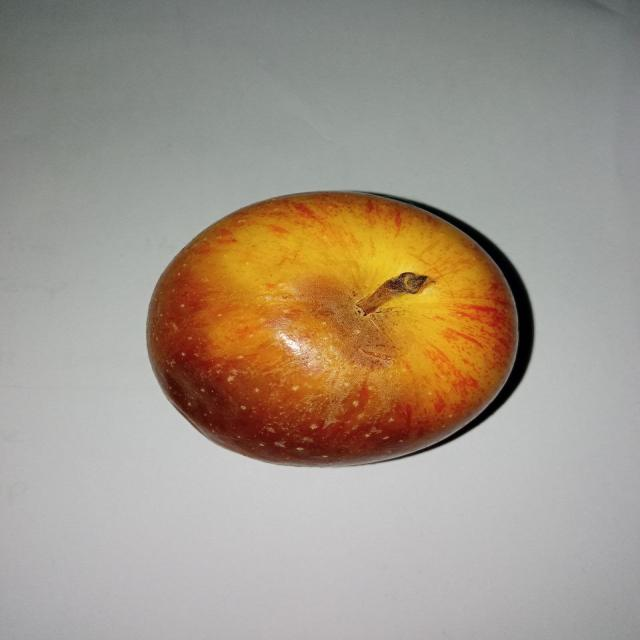rotten_apple: (145, 191, 518, 465)
